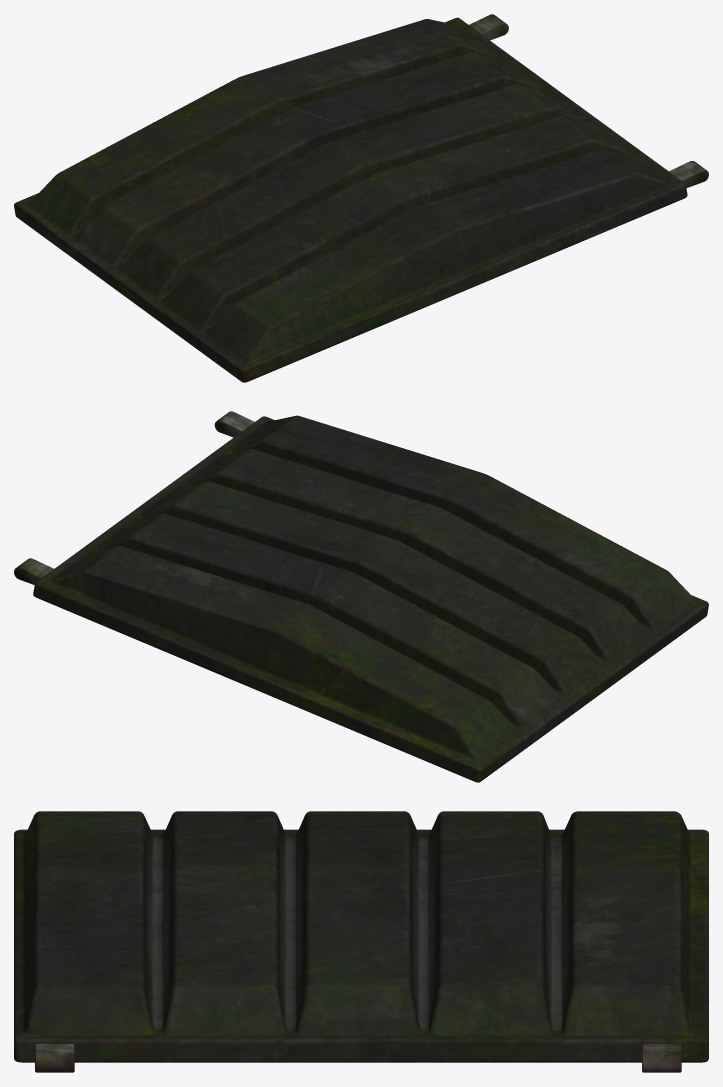
The model's file is SM_PAD_Dumpster_Lid02_Overgrown_c1_LOD0.fbx.
3 views of the same model, one above another, from view 1: azimuth 30°, elevation 25°; view 2: azimuth 150°, elevation 25°; view 3: azimuth 270°, elevation 25° (orthographic). The views are drawn at different scales.
Visible parts, largest first — view 1: SM_PAD_Dumpster_Lid02_Overgrown_c1_LOD0_LOD0; view 2: SM_PAD_Dumpster_Lid02_Overgrown_c1_LOD0_LOD0; view 3: SM_PAD_Dumpster_Lid02_Overgrown_c1_LOD0_LOD0.
Part boxes in pixels (bbox=[...]): SM_PAD_Dumpster_Lid02_Overgrown_c1_LOD0_LOD0: bbox=[14, 14, 708, 382]; SM_PAD_Dumpster_Lid02_Overgrown_c1_LOD0_LOD0: bbox=[14, 411, 708, 782]; SM_PAD_Dumpster_Lid02_Overgrown_c1_LOD0_LOD0: bbox=[14, 811, 708, 1072].
Bounding box in the file's own units: 124 × 104 × 26.91.
